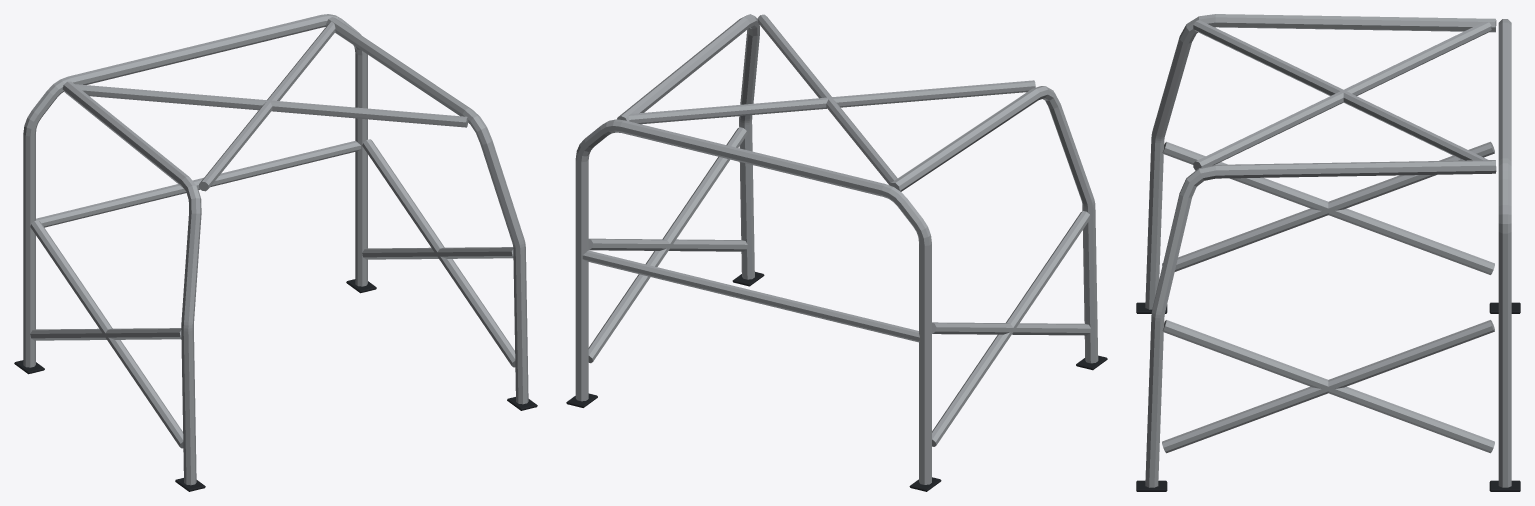
The model's file is vortex_r.glb.
The picture shows the model from 3 angles, left to right: view 1: azimuth 30°, elevation 25°; view 2: azimuth 150°, elevation 25°; view 3: azimuth 270°, elevation 25°; orthographic projection. The views are drawn at different scales.
Visible parts, largest first — view 1: model; view 2: model; view 3: model.
Part boxes in pixels (x1,y1,x2,y2): model: (14, 14, 537, 491); model: (566, 14, 1107, 491); model: (1136, 14, 1520, 491).
Bounding box in the file's own units: 1.42 × 1.1 × 1.24.
Materials: 2 (1 with a texture image).
